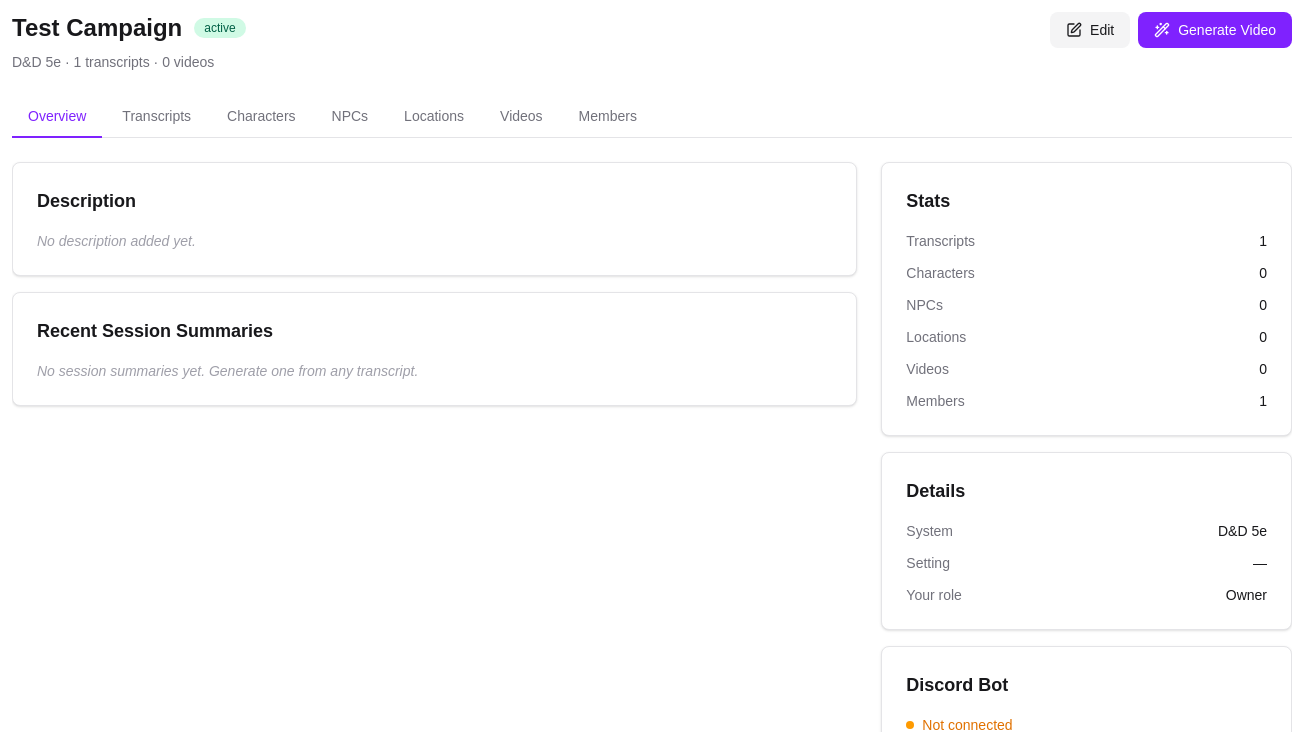
Test case: CampaignDetailTabs — tab content › renders transcript rows when transcripts exist
The image size is (1304, 732).
Click the button "Transcripts" at [157, 117], box [106,96,207,138]
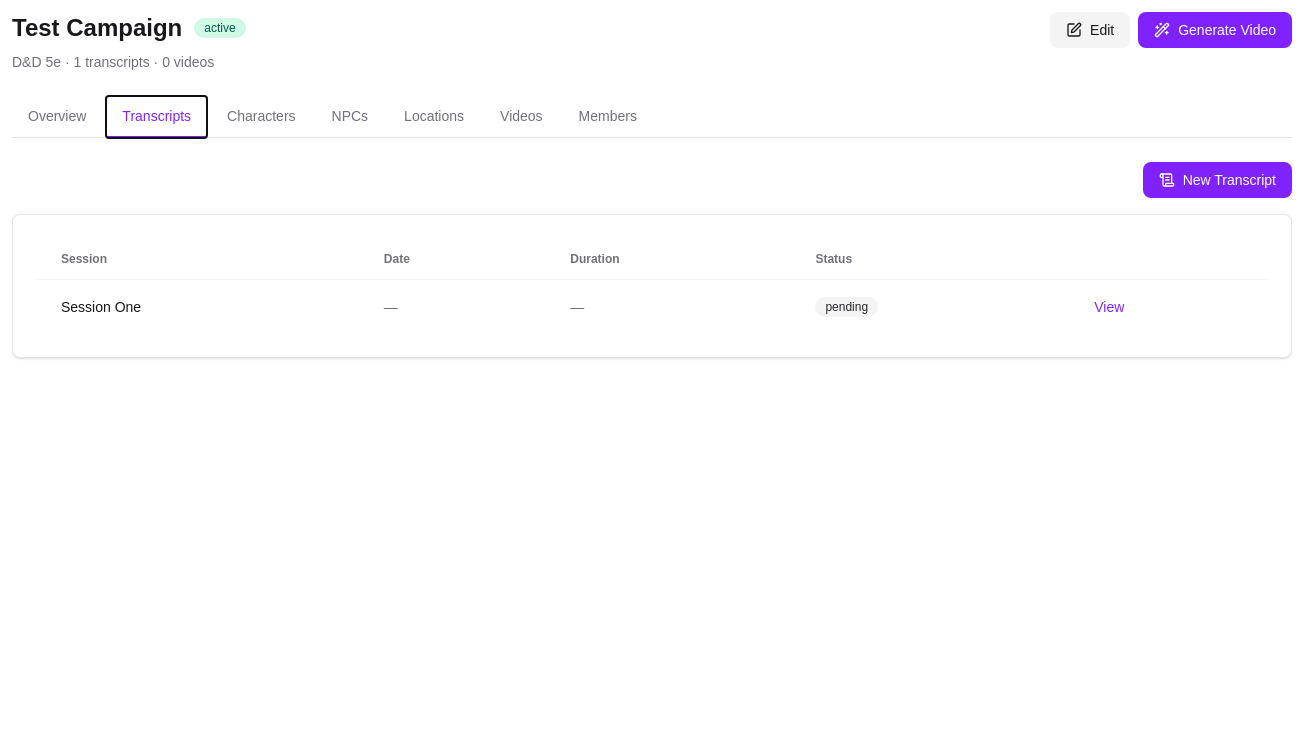
expect the text "Session One" is shown: met, box [37,280,360,333]
